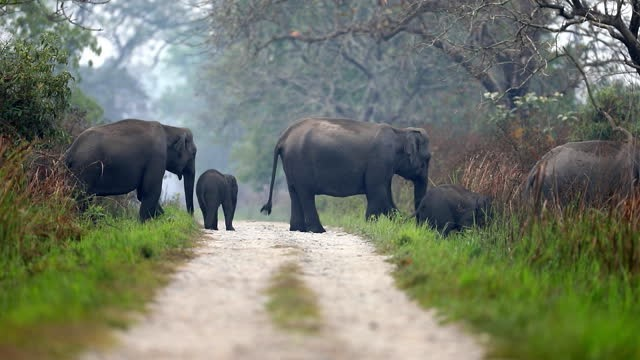Elephant: (265, 114, 429, 240), (57, 119, 199, 223), (511, 137, 637, 242), (415, 184, 496, 236), (198, 170, 241, 232)
Road: (110, 217, 496, 358)
